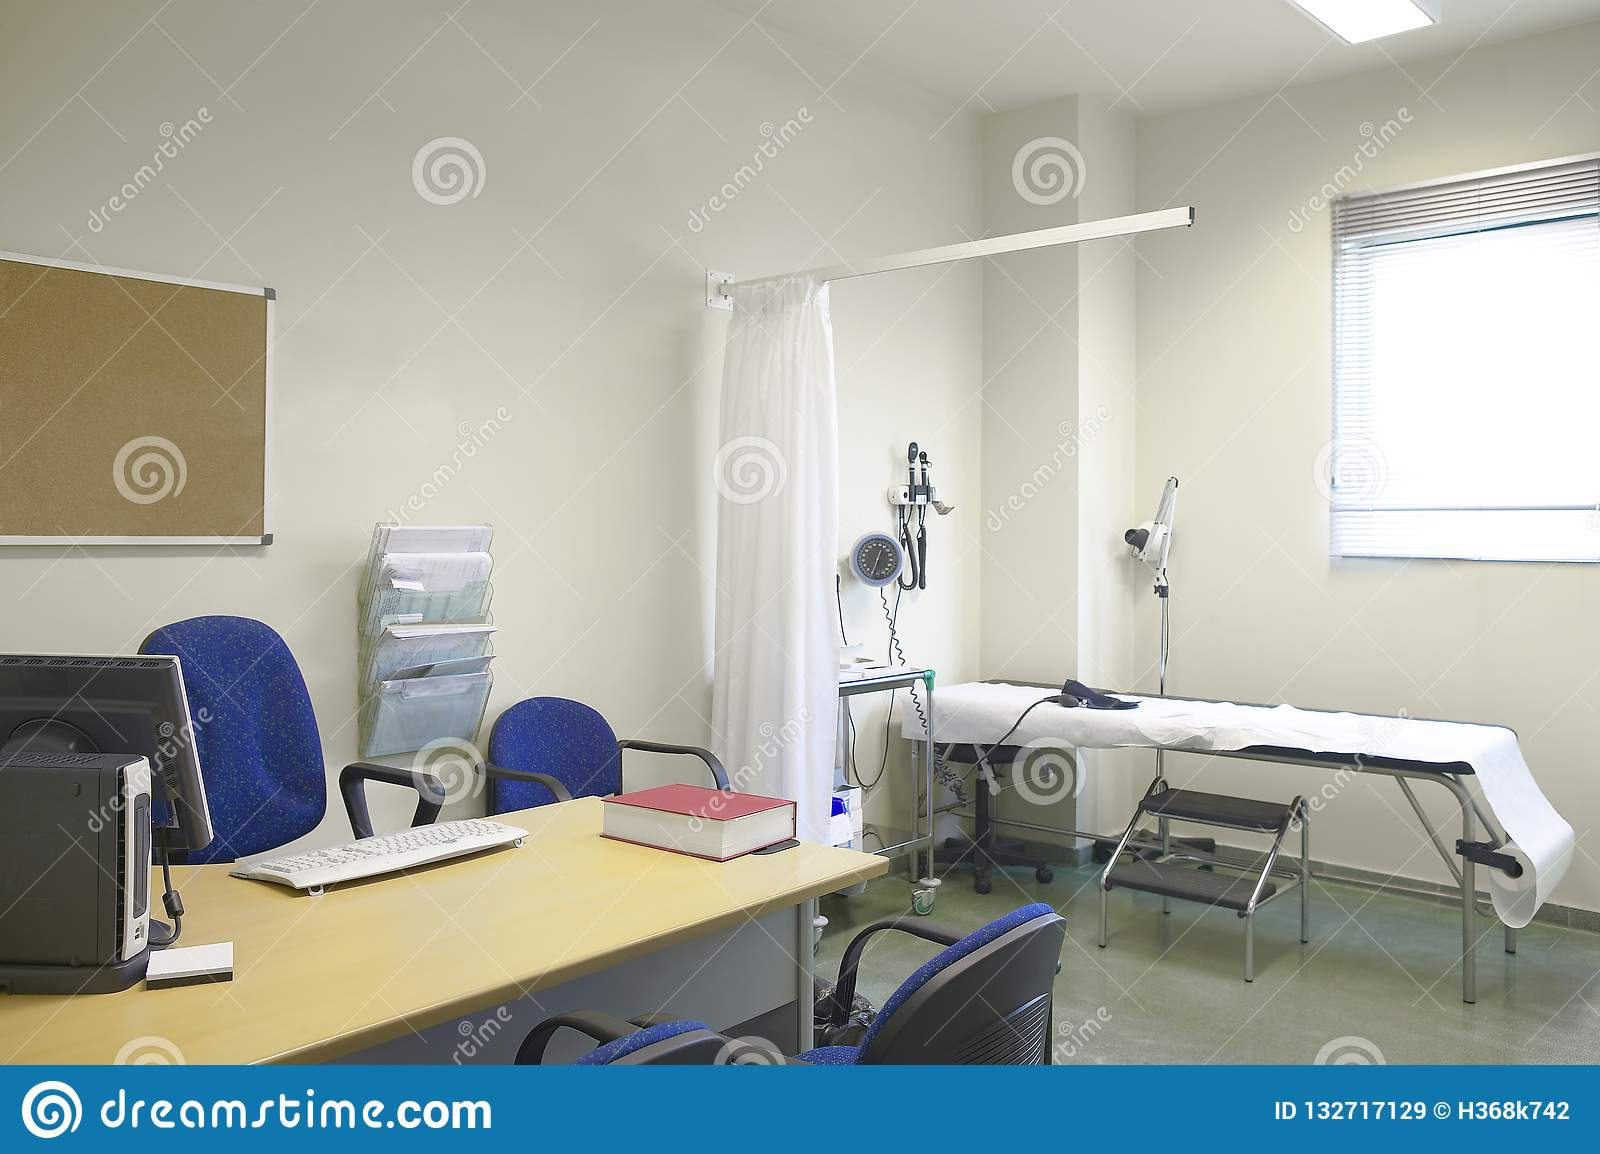chair: (509, 902, 1071, 1062), (129, 612, 451, 860), (484, 696, 735, 816)
computer: (1, 650, 216, 855)
curtain: (719, 273, 832, 784)
exam_table: (889, 667, 1545, 1009)
keyboard: (221, 810, 545, 897)
table: (2, 786, 883, 1060)
utility_cart: (812, 660, 932, 933)
